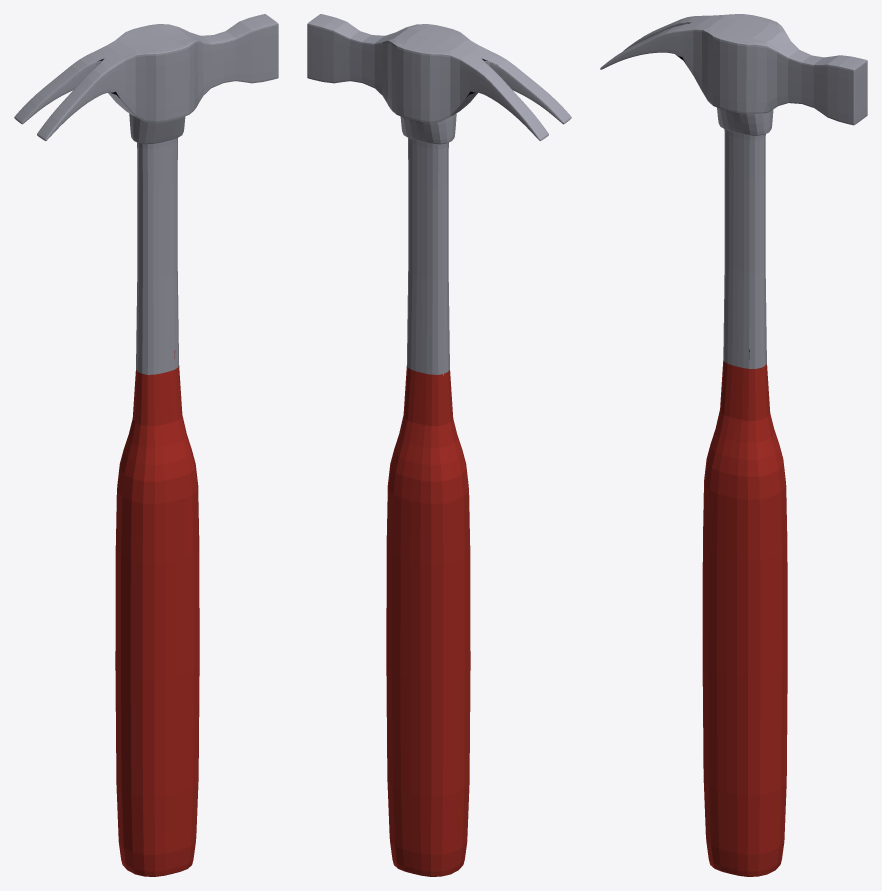
The model's file is Hammer.fbx.
3 renders of one model, left to right at view 1: azimuth 30°, elevation 25°; view 2: azimuth 150°, elevation 25°; view 3: azimuth 330°, elevation 25°, orthographic.
Visible parts, largest first — view 1: Hammer; view 2: Hammer; view 3: Hammer.
Boxes of the visible parts, bbox=[...] form: Hammer: bbox=[14, 14, 278, 876]; Hammer: bbox=[307, 14, 571, 876]; Hammer: bbox=[600, 14, 867, 876].
Bounding box in the file's own units: 0.0444 × 0.1439 × 0.0116.
